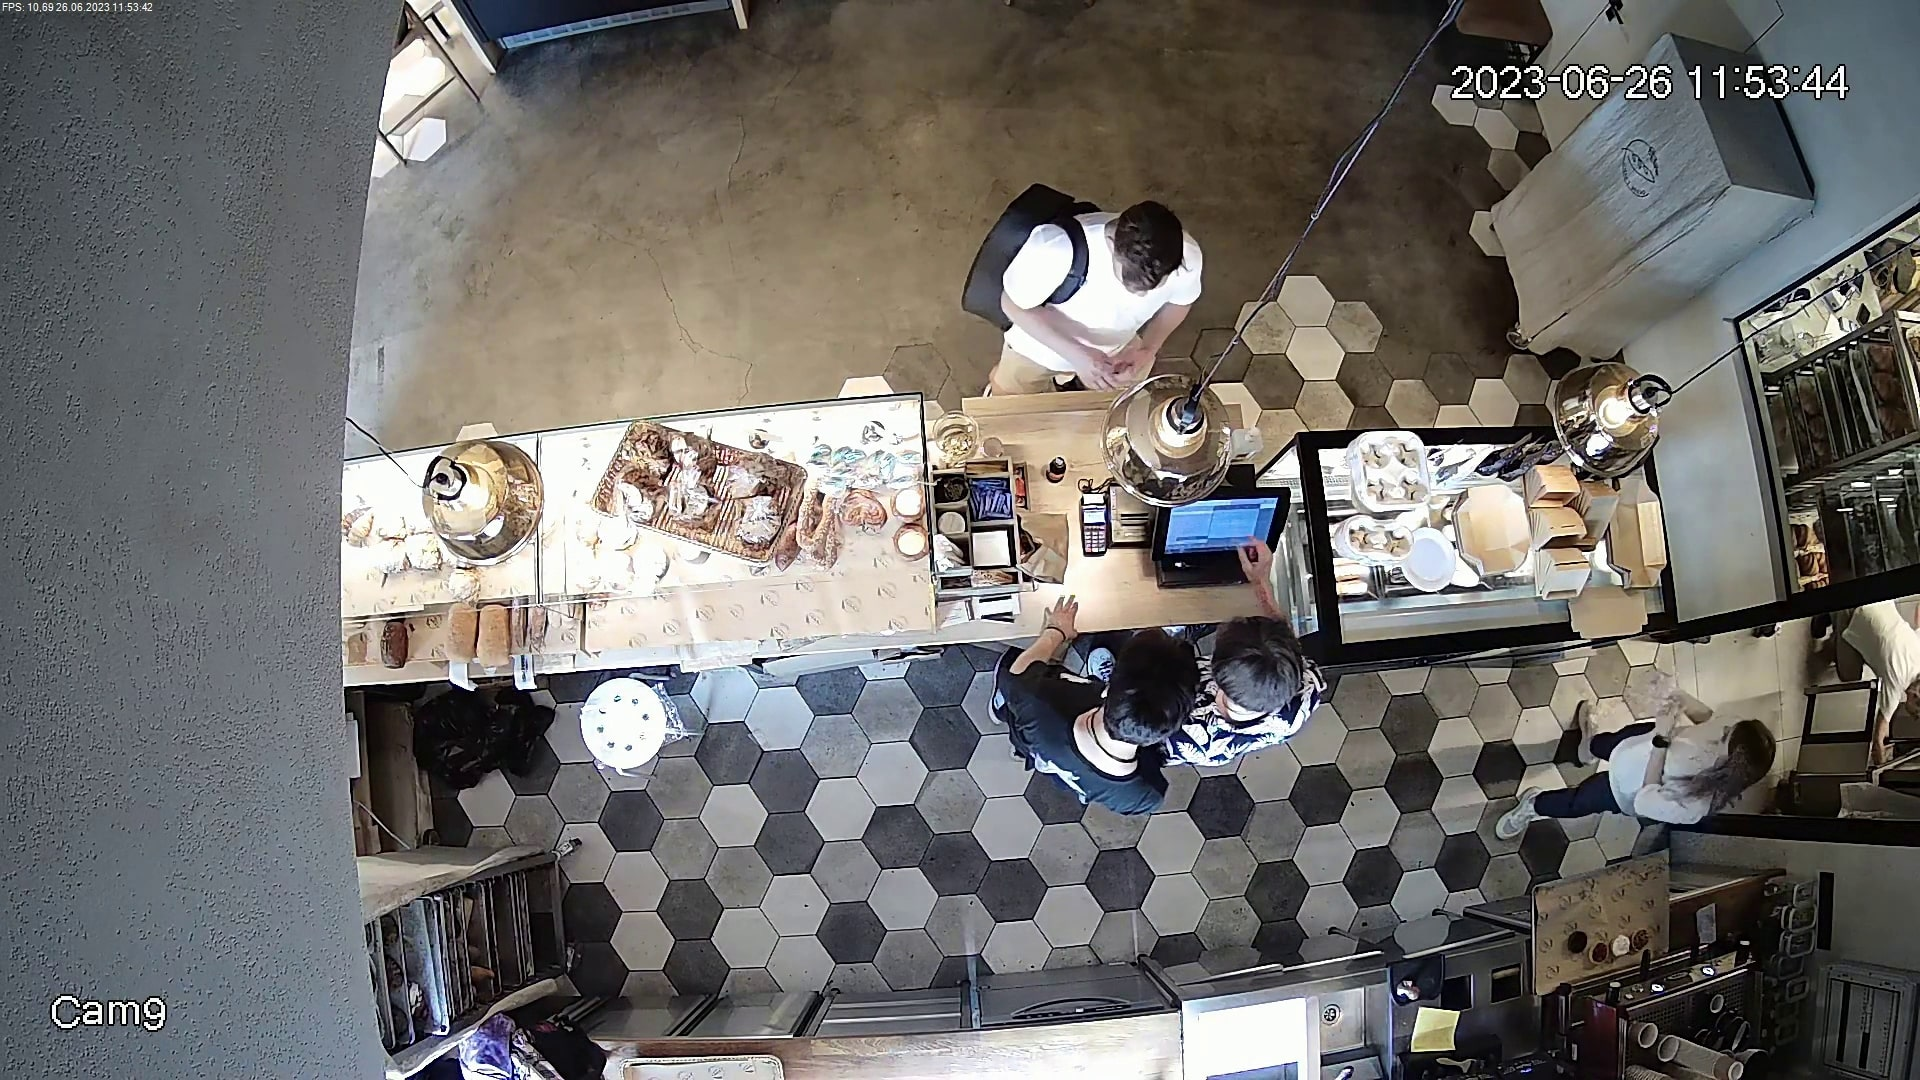barcounter: (354, 427, 1679, 669)
pack: (1009, 509, 1075, 586)
person: (958, 175, 1197, 385), (1502, 682, 1812, 841), (973, 629, 1193, 816)
